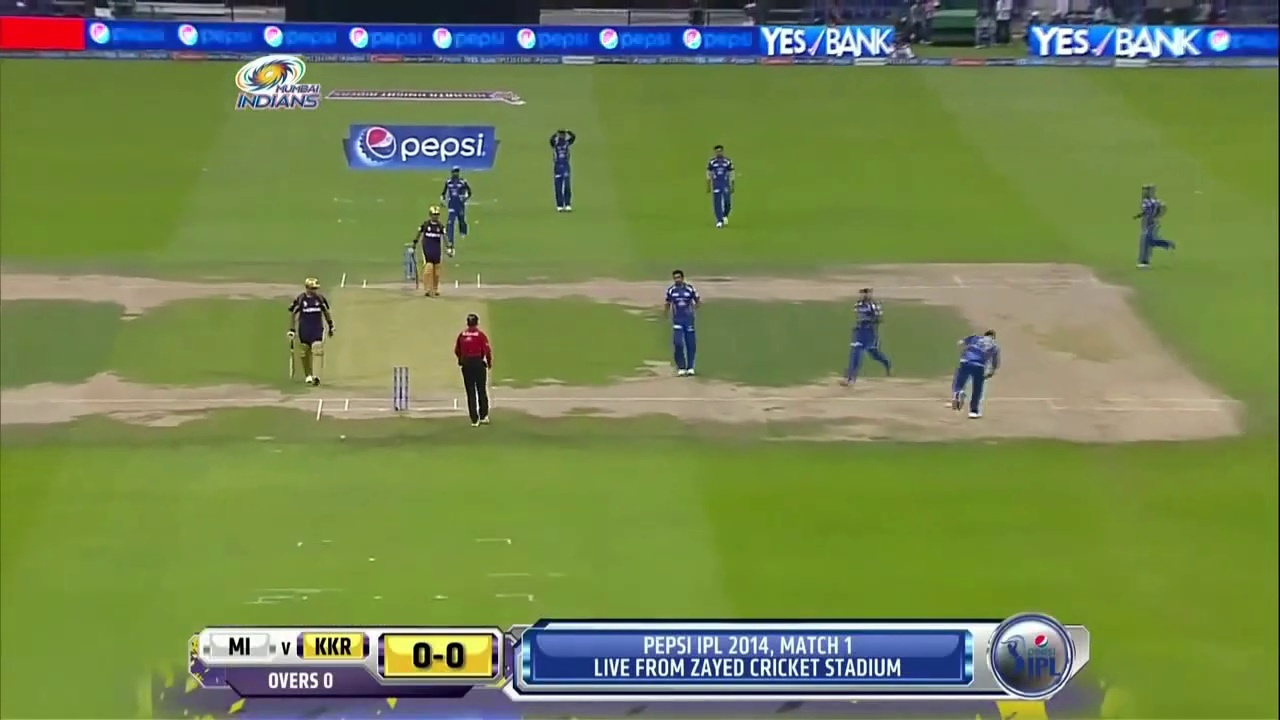bat: (287, 343, 297, 379), (411, 255, 420, 291)
stumps: (391, 364, 411, 413)
